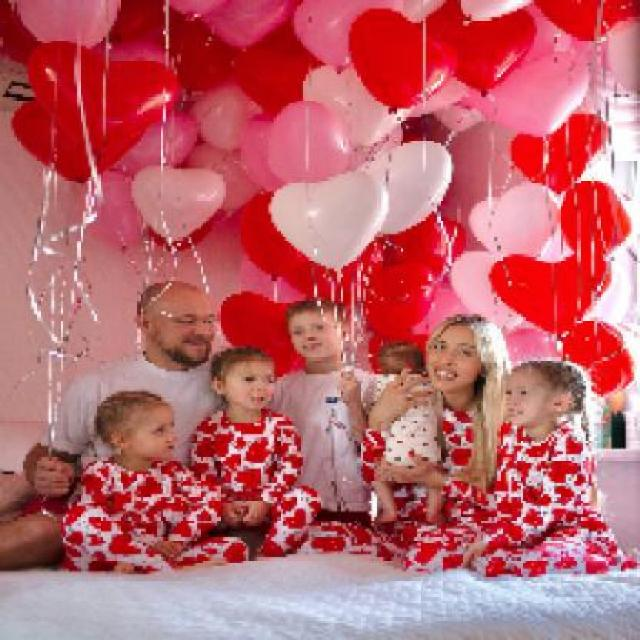child: (472, 357, 638, 574), (59, 390, 248, 567), (189, 344, 325, 556), (360, 338, 449, 524)
